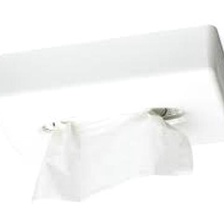plastic_box: (0, 19, 224, 162)
tissue: (20, 104, 201, 211)
